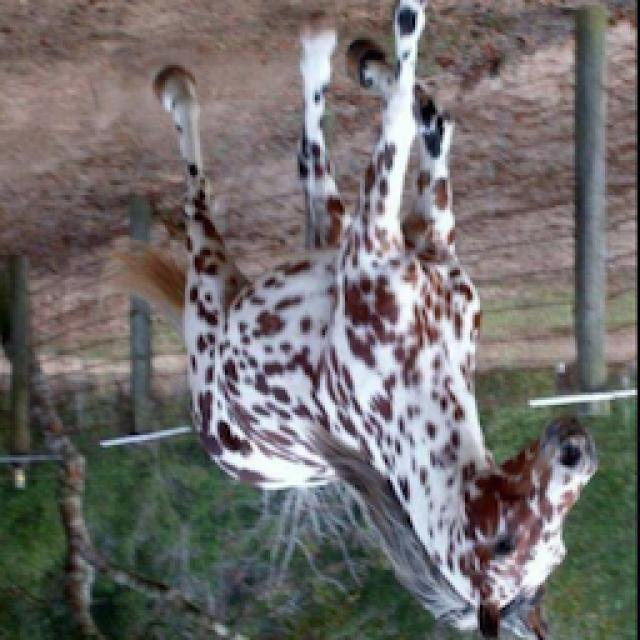Horse: (102, 2, 602, 640)
